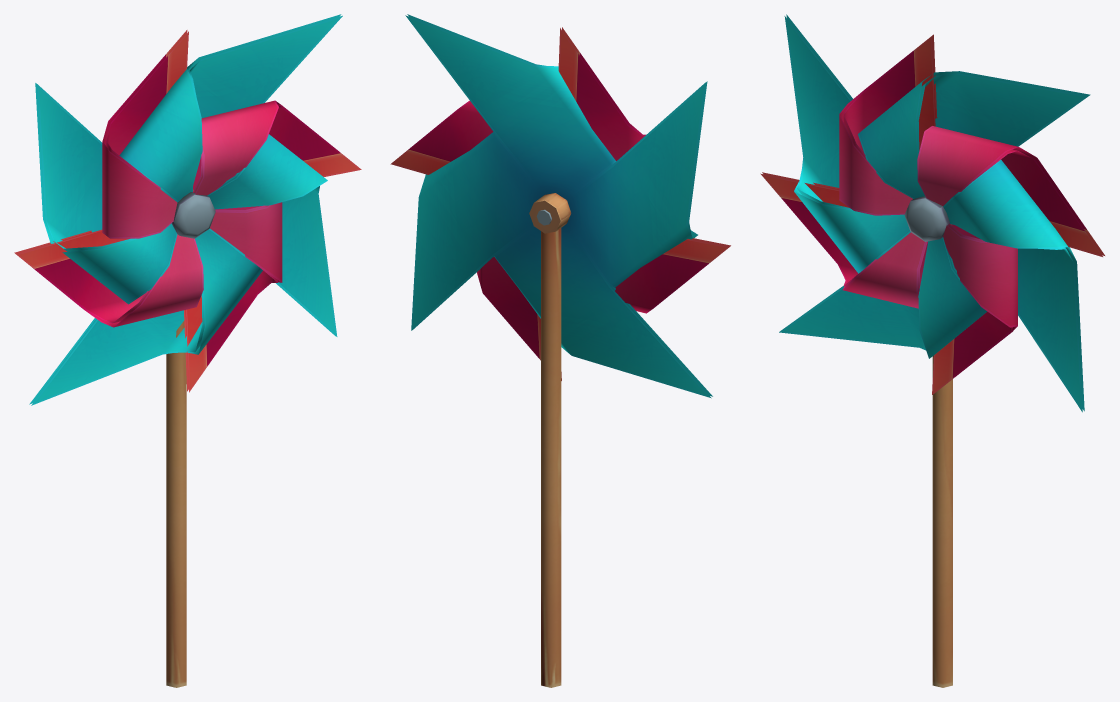
Rendered from SE_Vane_06.fbx.
The picture shows the model from 3 angles, left to right: view 1: azimuth 30°, elevation 25°; view 2: azimuth 150°, elevation 25°; view 3: azimuth 330°, elevation 25°; orthographic projection.
Visible parts, largest first — view 1: SE_Vane_06; view 2: SE_Vane_06; view 3: SE_Vane_06.
Boxes of the visible parts, x1,y1,x2,y2 form: SE_Vane_06: (14, 14, 361, 687); SE_Vane_06: (390, 14, 730, 687); SE_Vane_06: (760, 14, 1104, 687).
Size of the model in its own units: 2.54 by 4.63 by 0.4242.
